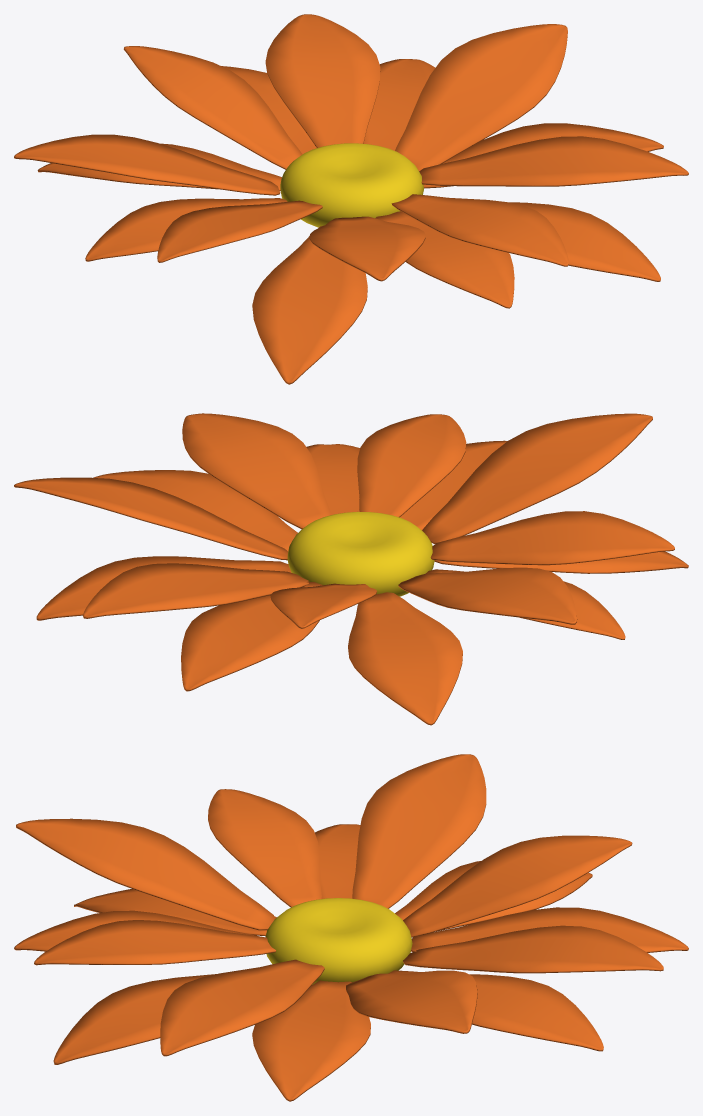
Rendered from flower.fbx.
3 views of the same model, one above another, from view 1: azimuth 30°, elevation 25°; view 2: azimuth 150°, elevation 25°; view 3: azimuth 270°, elevation 25° (orthographic). The views are drawn at different scales.
Visible parts, largest first — view 1: Plane.010, Plane.014, Plane.006, Plane.012, Plane.008, Center, Plane.013, Plane.011, Plane, Plane.009, Plane.015, Plane.004 (+5 smaller); view 2: Plane.015, Plane.012, Plane.007, Center, Plane.009, Plane.011, Plane.014, Plane.001, Plane.013, Plane.010, Plane.003, Plane.005 (+5 smaller); view 3: Plane.013, Plane.015, Plane.008, Center, Plane.012, Plane.014, Plane.003, Plane.009, Plane.011, Plane.010, Plane.005, Plane.004 (+5 smaller).
Part boxes in pixels (bbox=[...]): Plane.010: bbox=[395, 24, 567, 171]; Plane.014: bbox=[265, 14, 380, 147]; Plane.006: bbox=[252, 225, 367, 384]; Plane.012: bbox=[419, 136, 688, 186]; Plane.008: bbox=[123, 46, 302, 169]; Center: bbox=[280, 143, 423, 227]; Plane.013: bbox=[14, 134, 280, 195]; Plane.011: bbox=[391, 194, 568, 266]; Plane: bbox=[375, 211, 514, 308]; Plane.009: bbox=[157, 200, 322, 262]; Plane.015: bbox=[309, 216, 425, 281]; Plane.004: bbox=[509, 202, 660, 281]; Plane.015: bbox=[422, 413, 652, 543]; Plane.012: bbox=[182, 413, 331, 529]; Plane.007: bbox=[348, 592, 462, 725]; Center: bbox=[287, 511, 434, 596]; Plane.009: bbox=[430, 511, 674, 565]; Plane.011: bbox=[357, 414, 466, 517]; Plane.014: bbox=[83, 563, 308, 618]; Plane.001: bbox=[181, 581, 322, 691]; Plane.013: bbox=[398, 567, 577, 624]; Plane.010: bbox=[14, 477, 287, 560]; Plane.003: bbox=[93, 470, 297, 551]; Plane.005: bbox=[36, 556, 291, 620]; Plane.013: bbox=[352, 754, 486, 908]; Plane.015: bbox=[16, 818, 274, 930]; Plane.008: bbox=[403, 835, 632, 937]; Center: bbox=[265, 898, 412, 984]; Plane.012: bbox=[160, 959, 324, 1056]; Plane.014: bbox=[403, 925, 663, 973]; Plane.003: bbox=[252, 980, 370, 1101]; Plane.009: bbox=[208, 789, 321, 907]; Plane.011: bbox=[34, 920, 275, 965]; Plane.010: bbox=[346, 970, 477, 1033]; Plane.005: bbox=[388, 970, 603, 1051]; Plane.004: bbox=[53, 974, 215, 1064].
Size of the model in its own units: 900 by 178 by 910.
